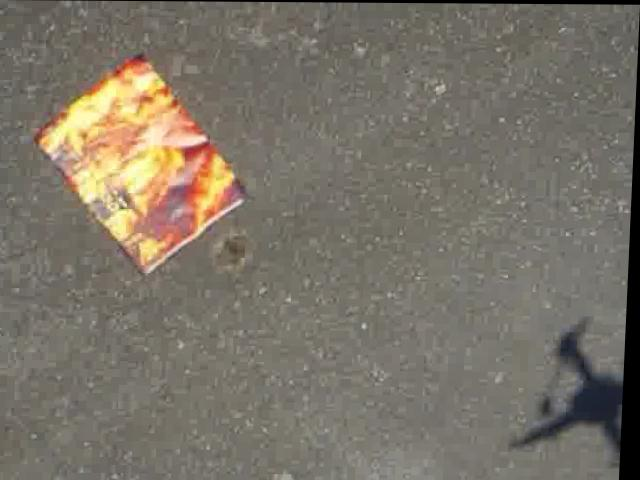fire-poster: (31, 57, 253, 276)
